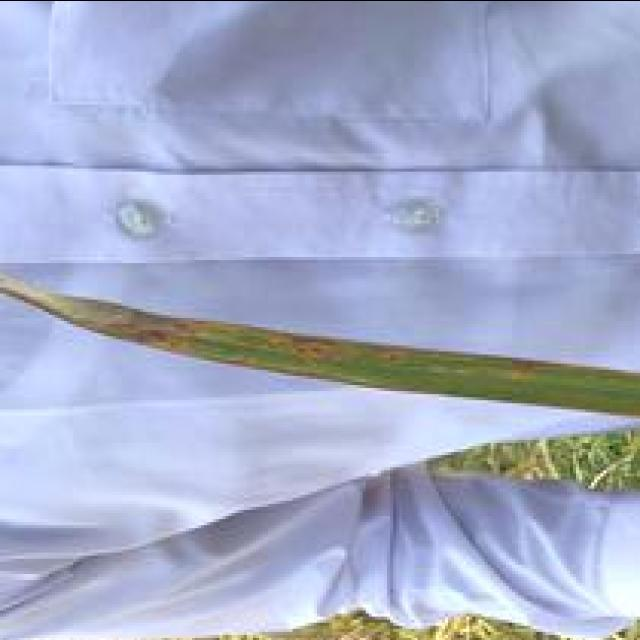Bacterial_Leaf_Blight: (1, 280, 484, 390)
